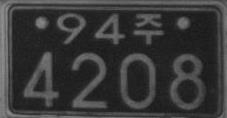0: (119, 52, 156, 110)
2: (71, 51, 108, 108)
4: (22, 50, 59, 107), (94, 13, 125, 44)
8: (169, 52, 207, 110)
9: (56, 11, 86, 45)
주: (133, 12, 164, 45)
